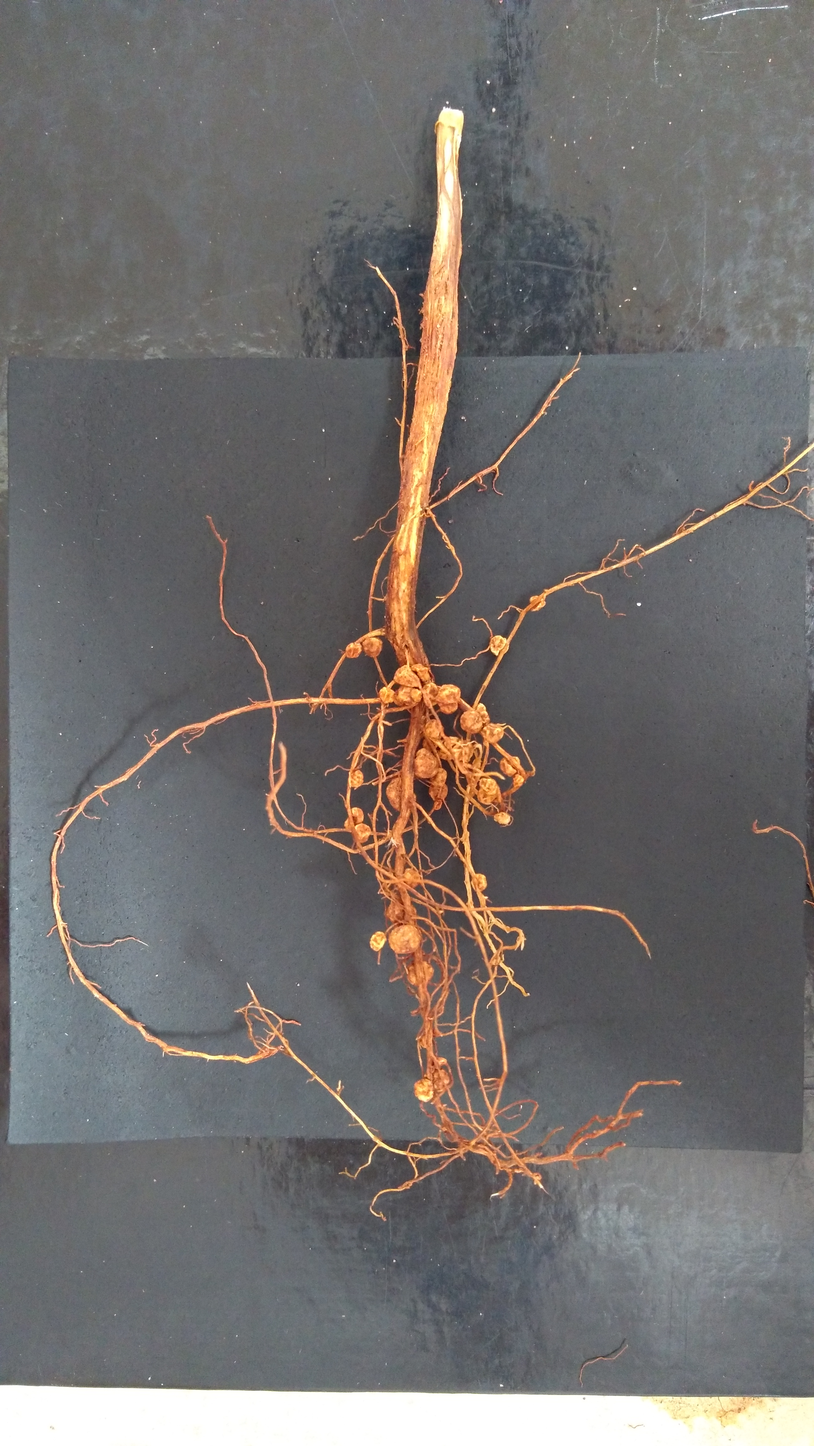nodule: (387, 923, 422, 956), (385, 776, 417, 812), (413, 747, 439, 780), (405, 959, 435, 986), (392, 664, 420, 690), (459, 709, 483, 736), (477, 777, 499, 806), (438, 734, 460, 763), (435, 683, 462, 705), (362, 635, 385, 660), (479, 722, 504, 745), (413, 1078, 434, 1104), (498, 754, 521, 777), (421, 682, 440, 709), (386, 895, 405, 922), (489, 634, 510, 658), (452, 739, 474, 761), (351, 822, 372, 845), (423, 717, 444, 740), (432, 1069, 451, 1093), (409, 663, 432, 682), (427, 783, 449, 802), (429, 767, 448, 788), (369, 930, 387, 952), (527, 594, 547, 613), (470, 872, 488, 893), (404, 867, 421, 889), (344, 641, 363, 660), (378, 685, 395, 706), (349, 769, 365, 789), (493, 810, 511, 827), (438, 701, 458, 716), (350, 807, 365, 825), (512, 773, 524, 790), (342, 815, 353, 833), (432, 798, 443, 811), (475, 702, 488, 712)
